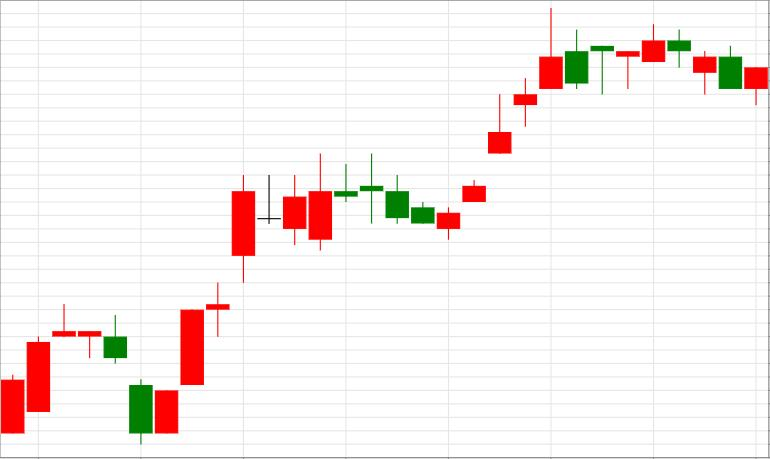shooting_star_fall: (437, 9, 563, 239)
